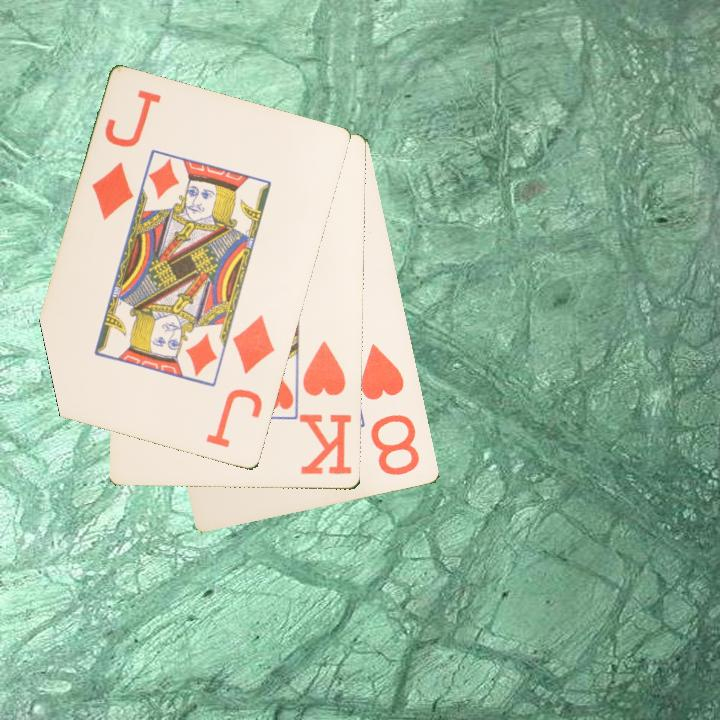8h: (357, 340, 423, 479)
Jd: (202, 311, 278, 451), (88, 86, 165, 224)
Kh: (298, 338, 356, 478)
